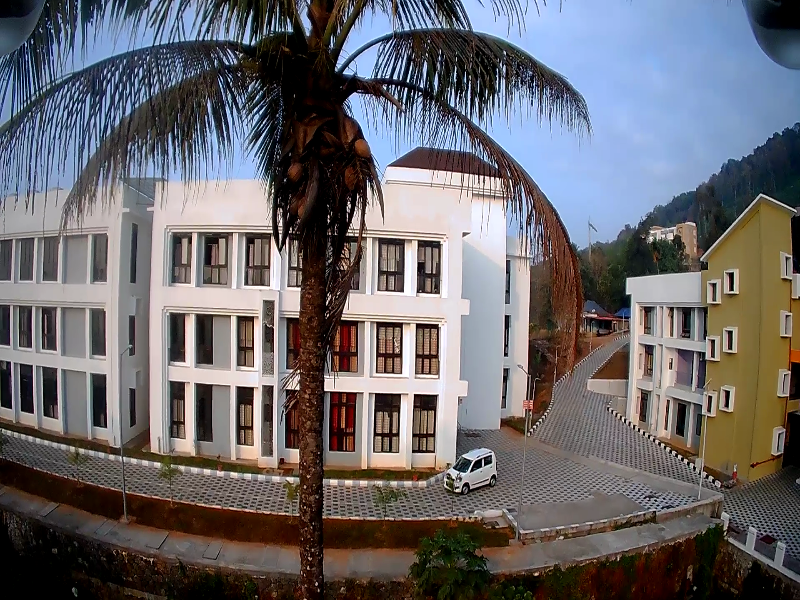coconut: (284, 162, 301, 185), (355, 139, 373, 158), (346, 167, 359, 190), (294, 198, 304, 214)
